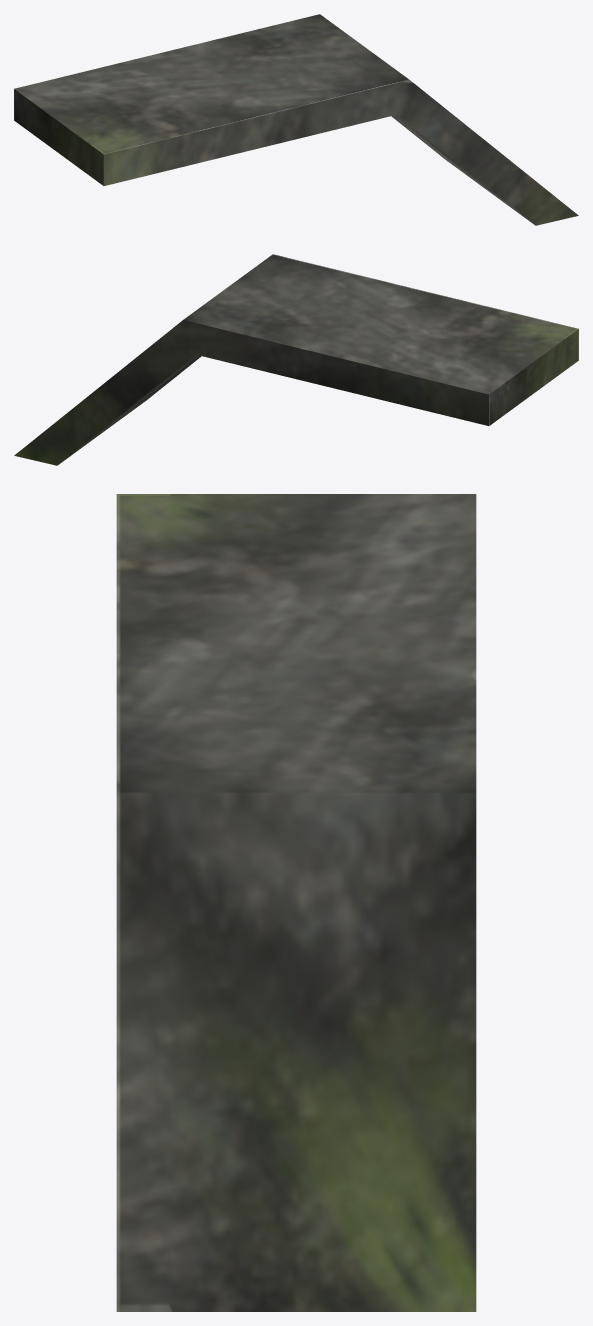
Rendered from obstaculo quebrao .fbx.
3 views of the same model, one above another, from view 1: azimuth 30°, elevation 25°; view 2: azimuth 150°, elevation 25°; view 3: azimuth 270°, elevation 25° (orthographic). The views are drawn at different scales.
Parts seen in each view (by area): view 1: obstaculoQuebrao; view 2: obstaculoQuebrao; view 3: obstaculoQuebrao.
Boxes of the visible parts, x1,y1,x2,y2 form: obstaculoQuebrao: (14, 14, 578, 225); obstaculoQuebrao: (14, 254, 578, 465); obstaculoQuebrao: (116, 494, 476, 1311).
Bounding box in the file's own units: 37.72 × 13.44 × 12.36.
1 material, 1 textured.
